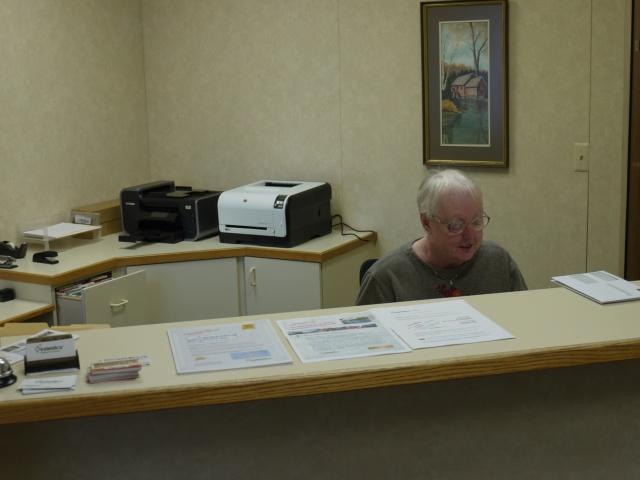Printer: (216, 179, 333, 247), (118, 179, 219, 242)
